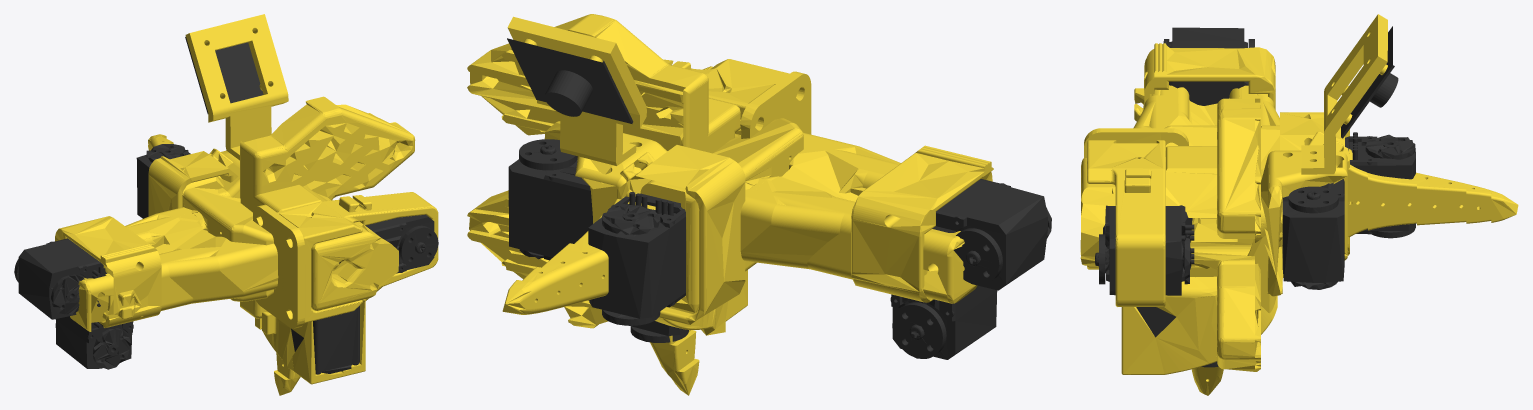
File: arm.glb
3 views of the same model, side by side, from view 1: azimuth 30°, elevation 25°; view 2: azimuth 150°, elevation 25°; view 3: azimuth 270°, elevation 25° (orthographic). The views are drawn at different scales.
Parts seen in each view (by area): view 1: b1, b4, b3, b7, b2, b5, b6, b8; view 2: b4, b2, b1, b3, b6, b7, b5, b8; view 3: b1, b6, b4, b5, b2, b7, b3, b8.
Part boxes in pixels (<box>): b1: <box>240,96,438,328</box>; b4: <box>14,211,221,327</box>; b3: <box>55,207,339,369</box>; b7: <box>185,14,288,160</box>; b2: <box>136,144,273,301</box>; b5: <box>255,299,365,384</box>; b6: <box>148,134,240,198</box>; b8: <box>274,353,300,395</box>; b4: <box>735,134,1051,302</box>; b2: <box>588,118,803,325</box>; b1: <box>467,14,811,328</box>; b3: <box>735,133,997,359</box>; b6: <box>502,121,667,314</box>; b7: <box>507,16,646,165</box>; b5: <box>630,270,747,342</box>; b8: <box>650,330,699,395</box>; b1: <box>1080,98,1261,371</box>; b6: <box>1261,149,1518,296</box>; b4: <box>1134,27,1282,241</box>; b5: <box>1121,235,1277,374</box>; b2: <box>1164,112,1415,255</box>; b7: <box>1301,14,1398,174</box>; b3: <box>1133,89,1282,247</box>; b8: <box>1190,243,1252,395</box>.
Size of the model in its own units: 0.2102 by 0.1635 by 0.1751.
